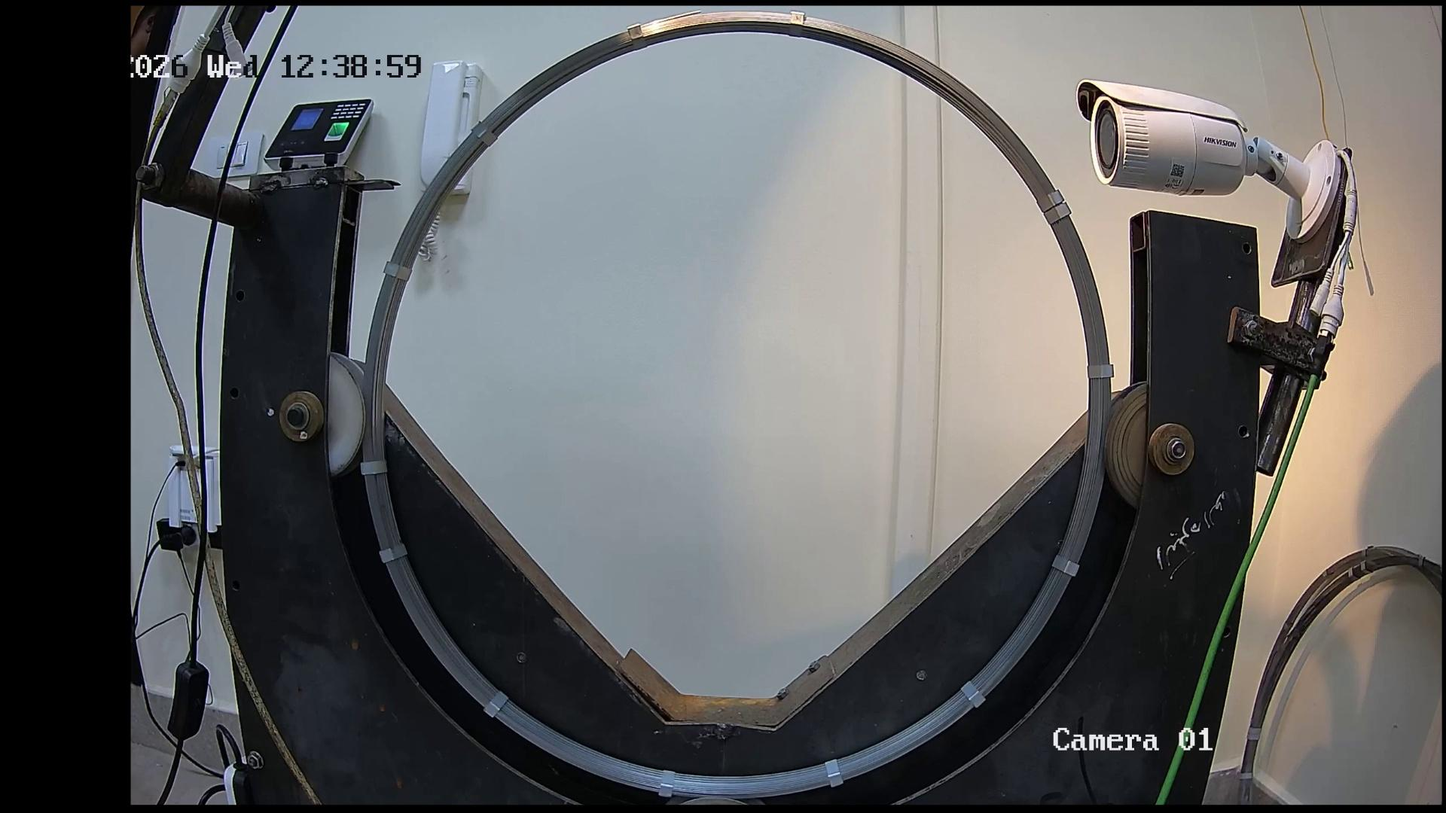clamp: (472, 121, 498, 147), (483, 691, 508, 718), (961, 681, 986, 708), (1043, 201, 1071, 225), (1036, 189, 1065, 212), (383, 261, 413, 282), (1052, 555, 1079, 577), (627, 23, 647, 51), (379, 544, 407, 564), (825, 759, 844, 788), (658, 770, 675, 798), (789, 10, 805, 37), (360, 460, 388, 475), (1087, 364, 1114, 379)
